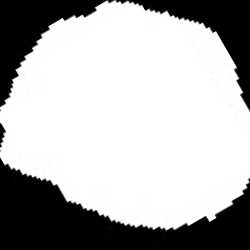spot: (1, 1, 249, 229)
